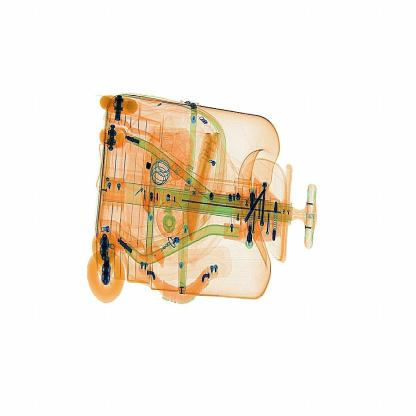knife: (242, 180, 271, 226)
